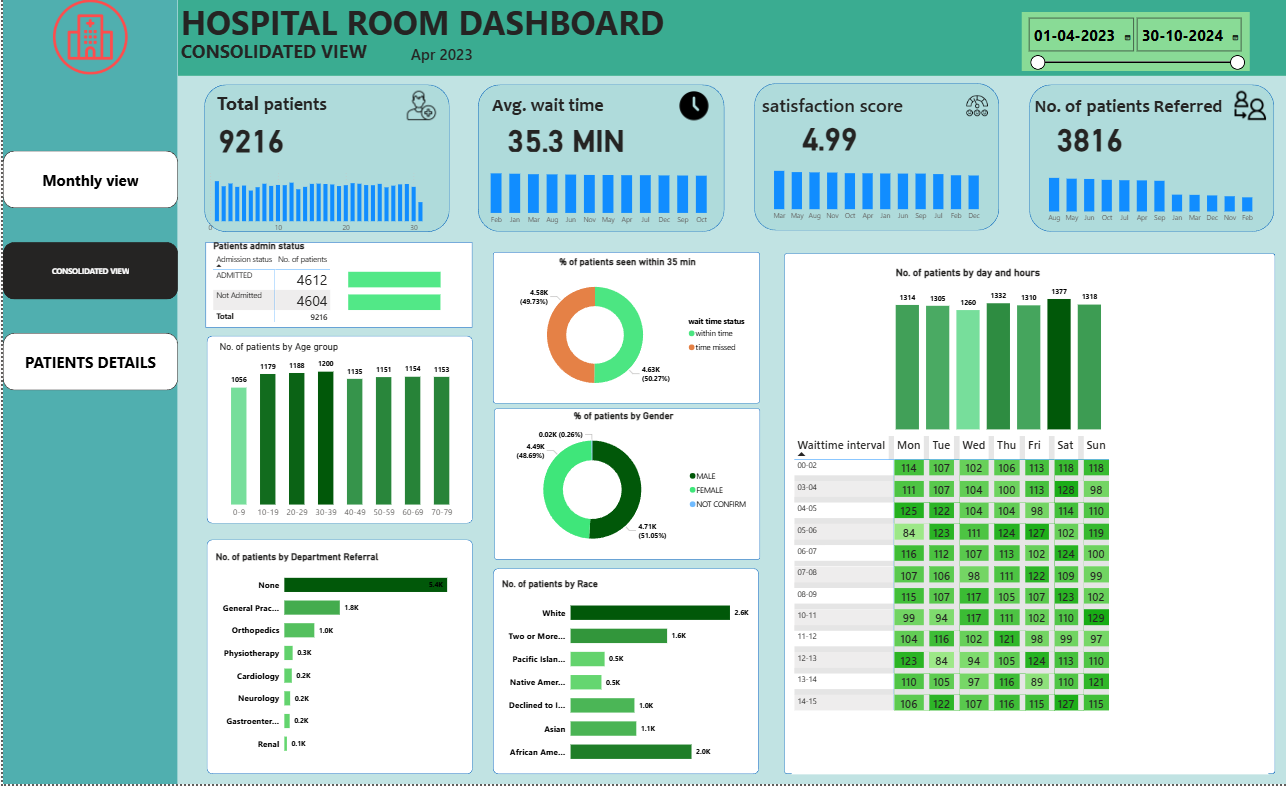

The page's visual inventory and layout, read from the dashboard file:
{"tool":"powerbi","page":{"name":"CONSOLIDATED VIEW","canvas":[2300,1400],"ordinal":1},"visuals":[{"type":"shape","box":[1825.1,155.4,435.5,261.8],"z":0,"group":"g4"},{"type":"shape","box":[361,435.6,474.6,152.5],"z":0},{"type":"shape","box":[0,0,310,1400.5],"z":1000},{"type":"shape","box":[1335.1,153,435.5,261.8],"z":1000,"group":"g3"},{"type":"shape","box":[310.5,0,1990.1,140],"z":2000},{"type":"shape","box":[845.1,155.5,438.1,261.8],"z":2000,"group":"g2"},{"type":"textbox","box":[310.5,0,884.5,89.3],"z":3000},{"type":"shape","box":[357.8,155.5,436.2,262.1],"z":3000,"group":"g1"},{"type":"textbox","box":[311.1,70,267,70],"z":4000},{"type":"slicer","fields":{"Values":["DATE Table.Date"]},"box":[1812.1,25.9,404.4,103.7],"z":5000},{"type":"card","fields":{"Values":["Min(DATE Table.MONTH & YEAR)"]},"box":[712.1,81,137.9,46.6],"z":6000},{"type":"pivotTable","title":"Patients admin status","fields":{"Rows":["Hospital ER_Data.Admission status"],"Values":["Hospital ER_Data.No. of patients"]},"box":[369.5,432.2,262.7,152.5],"z":7000},{"type":"group","id":"g1","title":"Group 1","box":[357.8,155.5,446.1,272.2],"z":8000},{"type":"card","fields":{"Values":["Hospital ER_Data.No. of patients"]},"box":[369.9,214.1,144.8,72.4],"z":8000,"group":"g1"},{"type":"group","id":"g2","title":"Group 2","box":[845.1,155.5,438.1,261.8],"z":9000},{"type":"card","fields":{"Values":["Hospital ER_Data.Avg. wait time"]},"box":[892,217.6,220,62.9],"z":9000,"group":"g2"},{"type":"group","id":"g3","title":"Group 3","box":[1335.1,153,435.5,261.8],"z":10000},{"type":"group","id":"g4","title":"Group 4","box":[1825.1,155.4,435.5,261.8],"z":11000},{"type":"columnChart","fields":{"Category":["DATE Table.Date.Variation.Date Hierarchy.Day"],"Y":["Measures Table.No. of patients"]},"box":[358.4,298.9,445.4,128.8],"z":12000,"group":"g1"},{"type":"barChart","fields":{"Category":["Hospital ER_Data.Admission status"],"Y":["Hospital ER_Data.No. of patients"]},"box":[608.5,455.9,223.7,128.8],"z":12000},{"type":"textbox","box":[1830,164.9,367.8,55.9],"z":13000,"group":"g4"},{"type":"shape","box":[362.7,601.7,472.9,333.9],"z":13000},{"type":"textbox","box":[1345.1,163.2,264.4,54.2],"z":14000,"group":"g3"},{"type":"clusteredColumnChart","fields":{"Category":["Hospital ER_Data.Age group"],"Y":["Hospital ER_Data.No. of patients"]},"box":[379.7,611.9,440.7,325.4],"z":14000},{"type":"shape","box":[362.7,964.4,472.9,416.9],"z":15000},{"type":"columnChart","fields":{"Category":["DATE Table.MONTH NAME"],"Y":["Avg(Hospital ER_Data.Patient Satisfaction Score)"]},"box":[1353.6,287.3,399.8,120.7],"z":16000,"group":"g3"},{"type":"clusteredBarChart","fields":{"Category":["Hospital ER_Data.Department Referral"],"Y":["Measures Table.No. of patients"]},"box":[372.9,984.7,454.2,378],"z":16000},{"type":"columnChart","fields":{"Category":["DATE Table.MONTH NAME"],"Y":["CountNonNull(Hospital ER_Data.Department Referral)"]},"box":[1843.6,280.6,397.1,131.5],"z":17000,"group":"g4"},{"type":"shape","box":[871.2,452.5,474.6,269.5],"z":17000},{"type":"donutChart","title":"% of patients seen within 35 min","fields":{"Category":["Hospital ER_Data.wait time status"],"Y":["Measures Table.No. of patients"]},"box":[883.1,459.3,455.9,262.7],"z":18000},{"type":"textbox","box":[375.5,161.4,245.8,54.2],"z":19000,"group":"g1"},{"type":"shape","box":[872.9,732.2,472.9,269.5],"z":19000},{"type":"textbox","box":[865,166.4,247.5,50.8],"z":20000,"group":"g2"},{"type":"donutChart","title":"% of patients by Gender","fields":{"Y":["Measures Table.No. of patients"],"Category":["Hospital ER_Data.Patient Gender"]},"box":[871.2,733.9,464.4,266.1],"z":20000},{"type":"columnChart","fields":{"Category":["DATE Table.MONTH NAME"],"Y":["Avg(Hospital ER_Data.Patient Waittime)"]},"box":[850.1,293.6,421.3,120.7],"z":21000,"group":"g2"},{"type":"shape","box":[871.2,1015.3,472.9,366.1],"z":21000},{"type":"card","fields":{"Values":["Hospital ER_Data.patients satisfaction score"]},"box":[1386.9,207.4,165.9,80.4],"z":22000,"group":"g3"},{"type":"clusteredBarChart","title":"No. of patients by Race","fields":{"Y":["Measures Table.No. of patients"],"Category":["Hospital ER_Data.Patient Race"]},"box":[881.4,1033.9,455.9,344.1],"z":22000},{"type":"card","fields":{"Values":["Hospital ER_Data.No. of patients reffered"]},"box":[1864,199.5,140,95.9],"z":23000,"group":"g4"},{"type":"shape","box":[1388.1,455.9,872.9,925.4],"z":23000},{"type":"pivotTable","fields":{"Rows":["Hospital ER_Data.Waittime interval"],"Columns":["DATE Table.day name"],"Values":["Measures Table.No. of patients"]},"box":[1401.7,774.6,847.5,606.8],"z":24000},{"type":"columnChart","title":"No. of patients by day and hours","fields":{"Category":["DATE Table.day name"],"Y":["Measures Table.No. of patients"]},"box":[1583.1,479.7,376.3,294.9],"z":25000},{"type":"image","box":[711.9,159.3,66.1,66.1],"z":26000},{"type":"image","box":[1194.9,152.5,66.1,79.7],"z":27000},{"type":"image","box":[1706.8,159.3,50.8,66.1],"z":28000},{"type":"image","box":[2162.7,161,110.2,66.1],"z":29000},{"type":"image","box":[0,0,310.2,142.4],"z":30000},{"type":"pageNavigator","box":[0,273.7,311.3,426.6],"z":31000}]}

Visuals, with their boxes in screenshot pixels (x1, y1, x2, y2), scaled from the page's 2300x1400 canvas onto the 1286x786 screenshot:
shape: bbox=(1020, 87, 1264, 234)
shape: bbox=(202, 245, 467, 330)
shape: bbox=(0, 0, 173, 785)
shape: bbox=(746, 86, 990, 233)
shape: bbox=(174, 0, 1285, 79)
shape: bbox=(473, 87, 717, 234)
textbox: bbox=(174, 0, 668, 50)
shape: bbox=(200, 87, 444, 234)
textbox: bbox=(174, 39, 323, 79)
slicer - DATE Table.Date: bbox=(1013, 15, 1239, 73)
card - Min(DATE Table.MONTH & YEAR): bbox=(398, 45, 475, 72)
"Patients admin status" pivotTable: bbox=(207, 243, 353, 328)
"Group 1" group: bbox=(200, 87, 449, 240)
card - Hospital ER_Data.No. of patients: bbox=(207, 120, 288, 161)
"Group 2" group: bbox=(473, 87, 717, 234)
card - Hospital ER_Data.Avg. wait time: bbox=(499, 122, 622, 157)
"Group 3" group: bbox=(746, 86, 990, 233)
"Group 4" group: bbox=(1020, 87, 1264, 234)
columnChart - DATE Table.Date.Variation.Date Hierarchy.Day x Measures Table.No. of patients: bbox=(200, 168, 449, 240)
barChart - Hospital ER_Data.Admission status x Hospital ER_Data.No. of patients: bbox=(340, 256, 465, 328)
textbox: bbox=(1023, 93, 1229, 124)
shape: bbox=(203, 338, 467, 525)
textbox: bbox=(752, 92, 900, 122)
clusteredColumnChart - Hospital ER_Data.Age group x Hospital ER_Data.No. of patients: bbox=(212, 344, 459, 526)
shape: bbox=(203, 541, 467, 776)
columnChart - DATE Table.MONTH NAME x Avg(Hospital ER_Data.Patient Satisfaction Score): bbox=(757, 161, 980, 229)
clusteredBarChart - Hospital ER_Data.Department Referral x Measures Table.No. of patients: bbox=(208, 553, 462, 765)
columnChart - DATE Table.MONTH NAME x CountNonNull(Hospital ER_Data.Department Referral): bbox=(1031, 158, 1253, 231)
shape: bbox=(487, 254, 752, 405)
"% of patients seen within 35 min" donutChart: bbox=(494, 258, 749, 405)
textbox: bbox=(210, 91, 347, 121)
shape: bbox=(488, 411, 752, 562)
textbox: bbox=(484, 93, 622, 122)
"% of patients by Gender" donutChart: bbox=(487, 412, 747, 561)
columnChart - DATE Table.MONTH NAME x Avg(Hospital ER_Data.Patient Waittime): bbox=(475, 165, 711, 233)
shape: bbox=(487, 570, 752, 776)
card - Hospital ER_Data.patients satisfaction score: bbox=(775, 116, 868, 162)
"No. of patients by Race" clusteredBarChart: bbox=(493, 580, 748, 774)
card - Hospital ER_Data.No. of patients reffered: bbox=(1042, 112, 1120, 166)
shape: bbox=(776, 256, 1264, 776)
pivotTable - Hospital ER_Data.Waittime interval x DATE Table.day name: bbox=(784, 435, 1258, 776)
"No. of patients by day and hours" columnChart: bbox=(885, 269, 1096, 435)
image: bbox=(398, 89, 435, 127)
image: bbox=(668, 86, 705, 130)
image: bbox=(954, 89, 983, 127)
image: bbox=(1209, 90, 1271, 128)
image: bbox=(0, 0, 173, 80)
pageNavigator: bbox=(0, 154, 174, 393)
